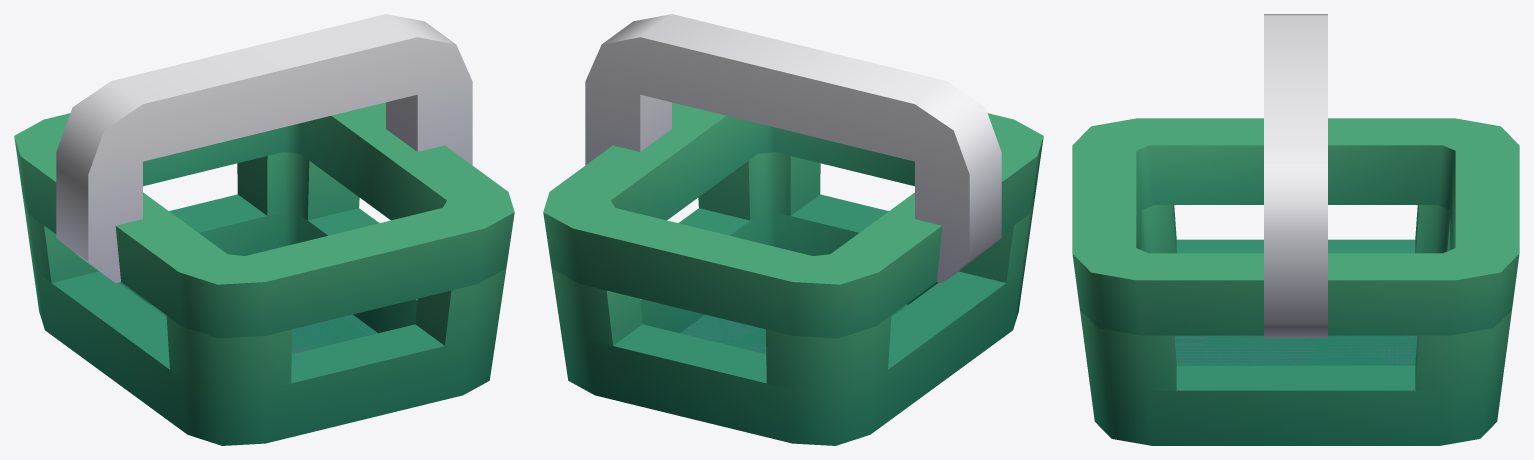
The model's file is shopping-basket.obj.
3 views of the same model, side by side, from view 1: azimuth 30°, elevation 25°; view 2: azimuth 150°, elevation 25°; view 3: azimuth 270°, elevation 25° (orthographic).
Visible parts, largest first — view 1: shopping-basket; view 2: shopping-basket; view 3: shopping-basket.
Part boxes in pixels (x1,y1,x2,y2): shopping-basket: (14, 14, 514, 445); shopping-basket: (543, 14, 1043, 445); shopping-basket: (1072, 14, 1519, 445).
Bounding box in the file's own units: 0.35 × 0.25 × 0.35.
Materials: 1 (1 with a texture image).
